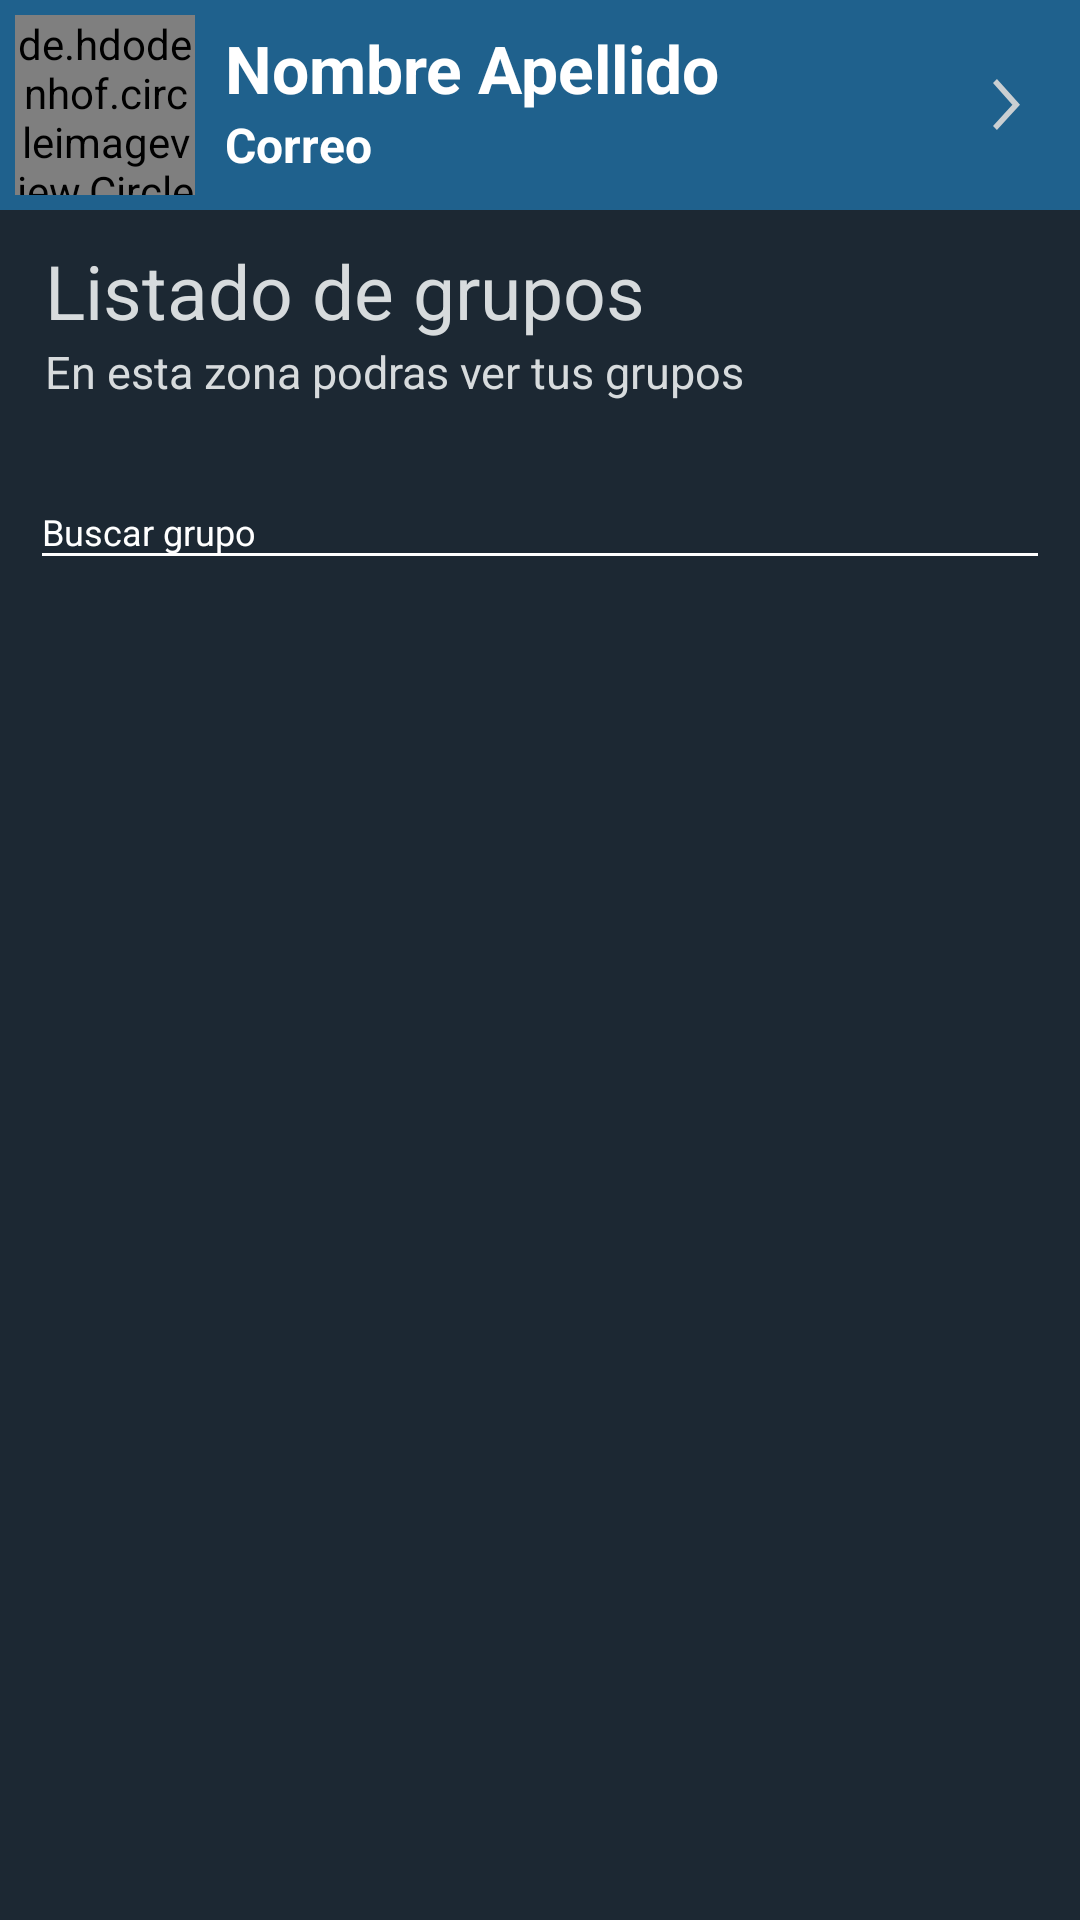

Screen size 1080px×1920px. Icon name, then its center in pixels as [x,y]:
more: [1006,104]
